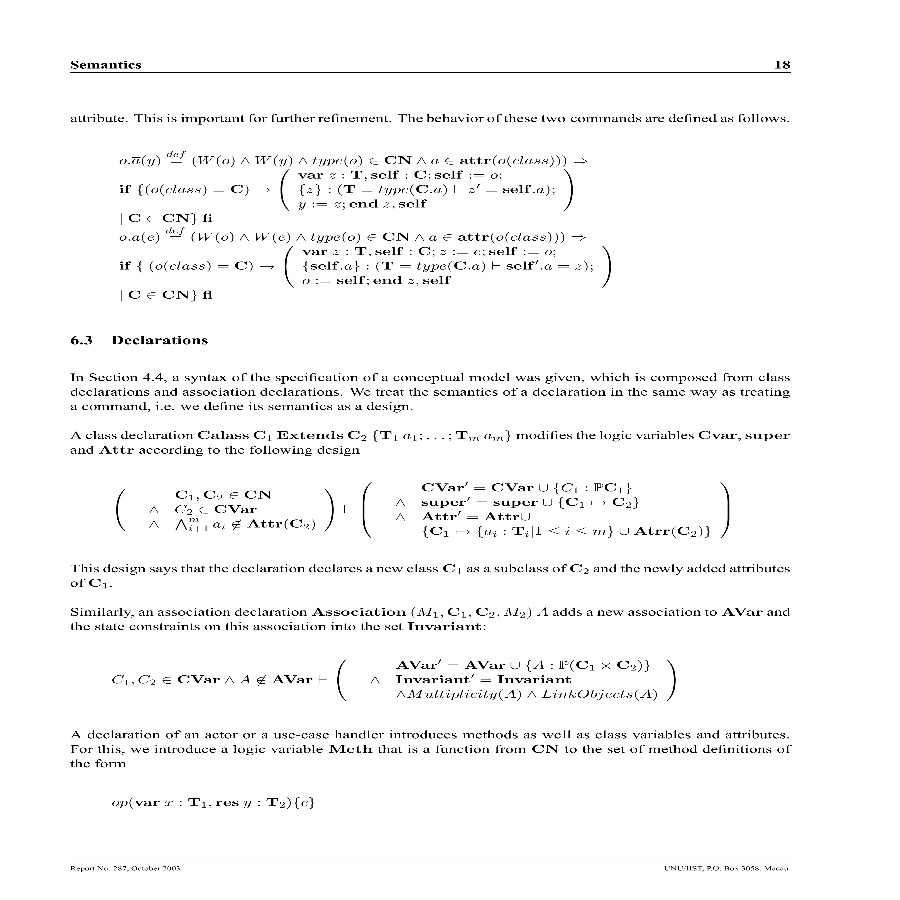eq: (114, 144, 614, 308), (118, 478, 738, 549), (109, 656, 683, 710), (108, 795, 321, 812)
